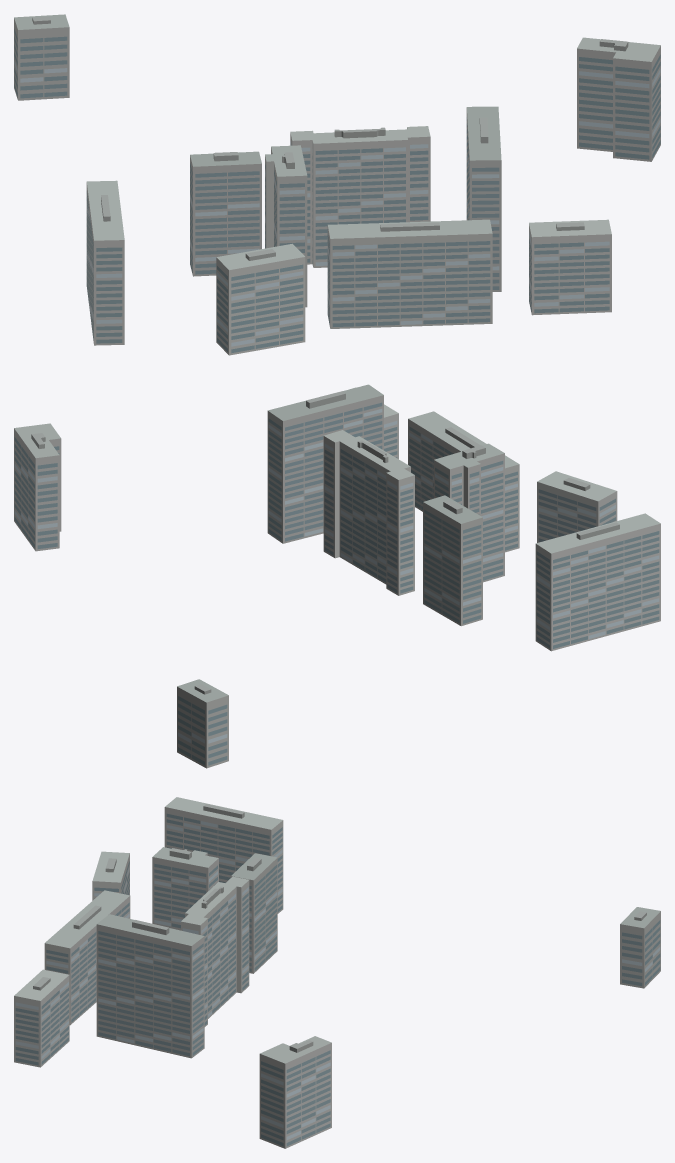
Rendered from apt-a12112002.glb.
3 views of the same model, one above another, from view 1: azimuth 30°, elevation 25°; view 2: azimuth 150°, elevation 25°; view 3: azimuth 270°, elevation 25° (orthographic). The views are drawn at different scales.
Parts seen in each view (by area): view 1: apt-a12112002; view 2: apt-a12112002; view 3: apt-a12112002.
Boxes of the visible parts, left/top/right/bottom form: apt-a12112002: left=14, top=14, right=660, bottom=355; apt-a12112002: left=14, top=384, right=660, bottom=768; apt-a12112002: left=14, top=797, right=660, bottom=1148.
Bounding box in the file's own units: 259 × 54 × 269.
